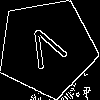V: (22, 23, 73, 79)
